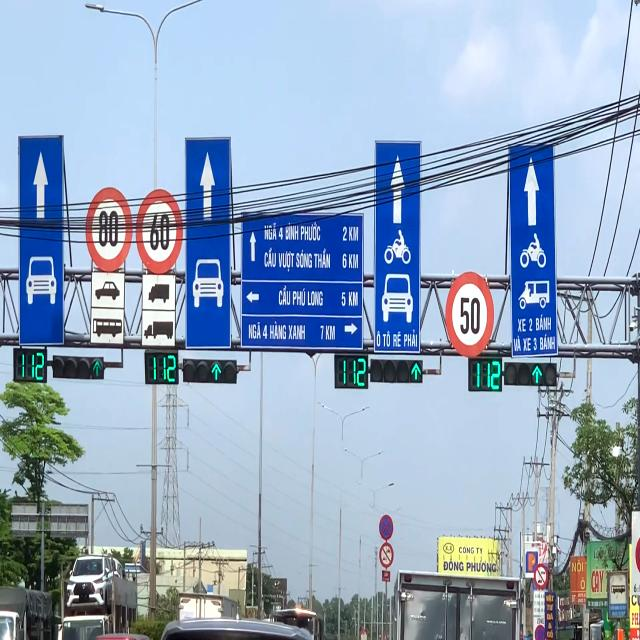P.127: (84, 182, 133, 274), (446, 268, 494, 358), (134, 188, 182, 273)
P.130: (378, 514, 394, 542)
